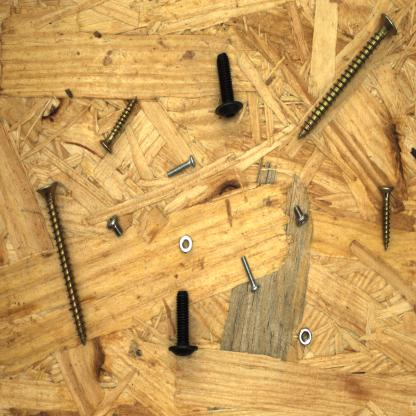screw: (294, 10, 400, 143), (32, 177, 90, 351), (208, 49, 246, 122), (165, 285, 202, 359), (376, 181, 397, 254), (235, 252, 264, 296), (164, 152, 198, 180), (104, 211, 126, 241), (292, 202, 312, 230)
